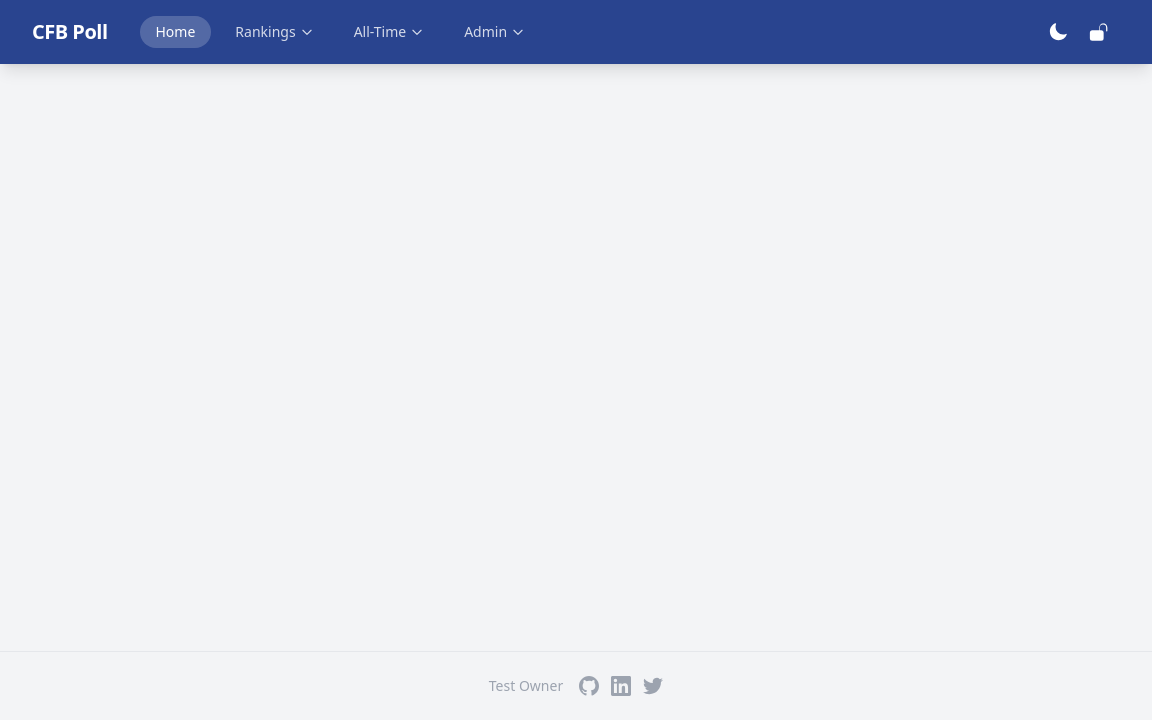
Scenario: Layout › shows Admin dropdown items on click when authenticated
The image size is (1152, 720).
Click the button "Admin" at (495, 32), box x1=448 y1=16 x2=541 y2=48
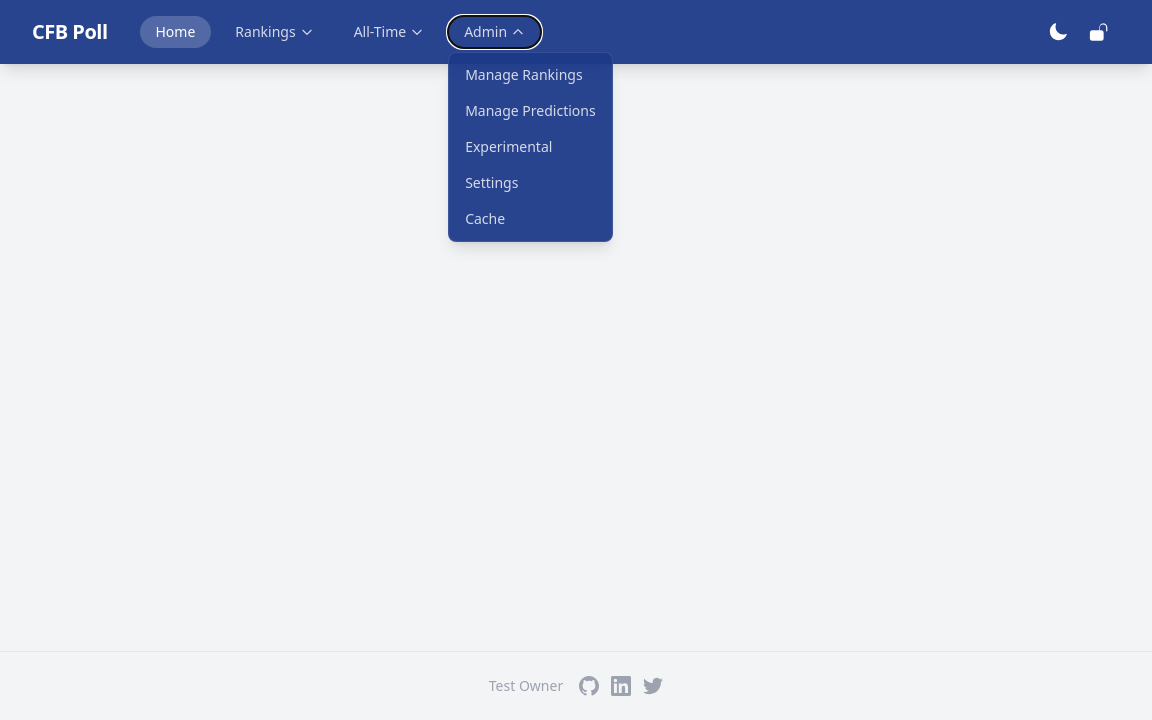
Expected: the link "Manage Rankings" is shown, x1=465 y1=65 x2=583 y2=84
Expected: the link "Manage Predictions" is shown, x1=465 y1=101 x2=596 y2=120
Expected: the link "Settings" is shown, x1=465 y1=173 x2=518 y2=192
